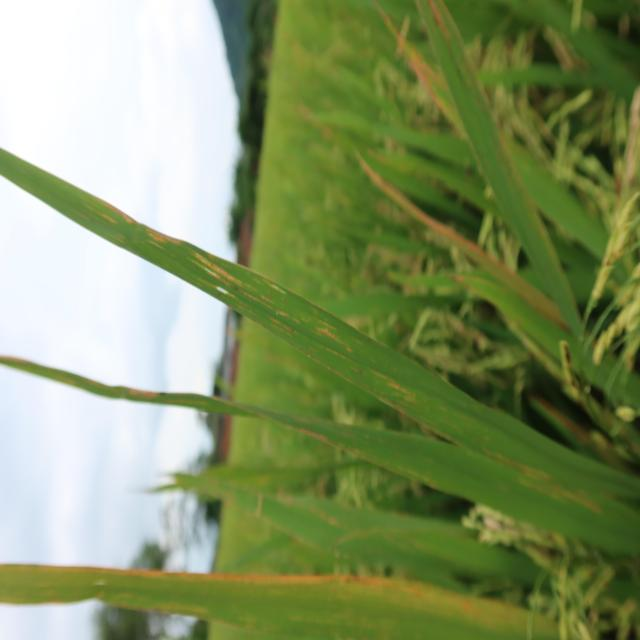Dom soc vi khuan: (467, 447, 602, 516), (186, 253, 257, 289), (370, 369, 416, 403), (197, 278, 239, 301), (397, 465, 431, 485), (239, 290, 272, 310), (146, 228, 181, 246), (84, 204, 117, 223), (313, 326, 344, 345), (269, 317, 300, 335), (263, 279, 286, 295), (326, 348, 349, 362), (317, 318, 336, 330), (108, 233, 124, 244), (300, 312, 313, 323), (261, 295, 273, 304), (275, 310, 289, 317), (293, 318, 299, 324)
